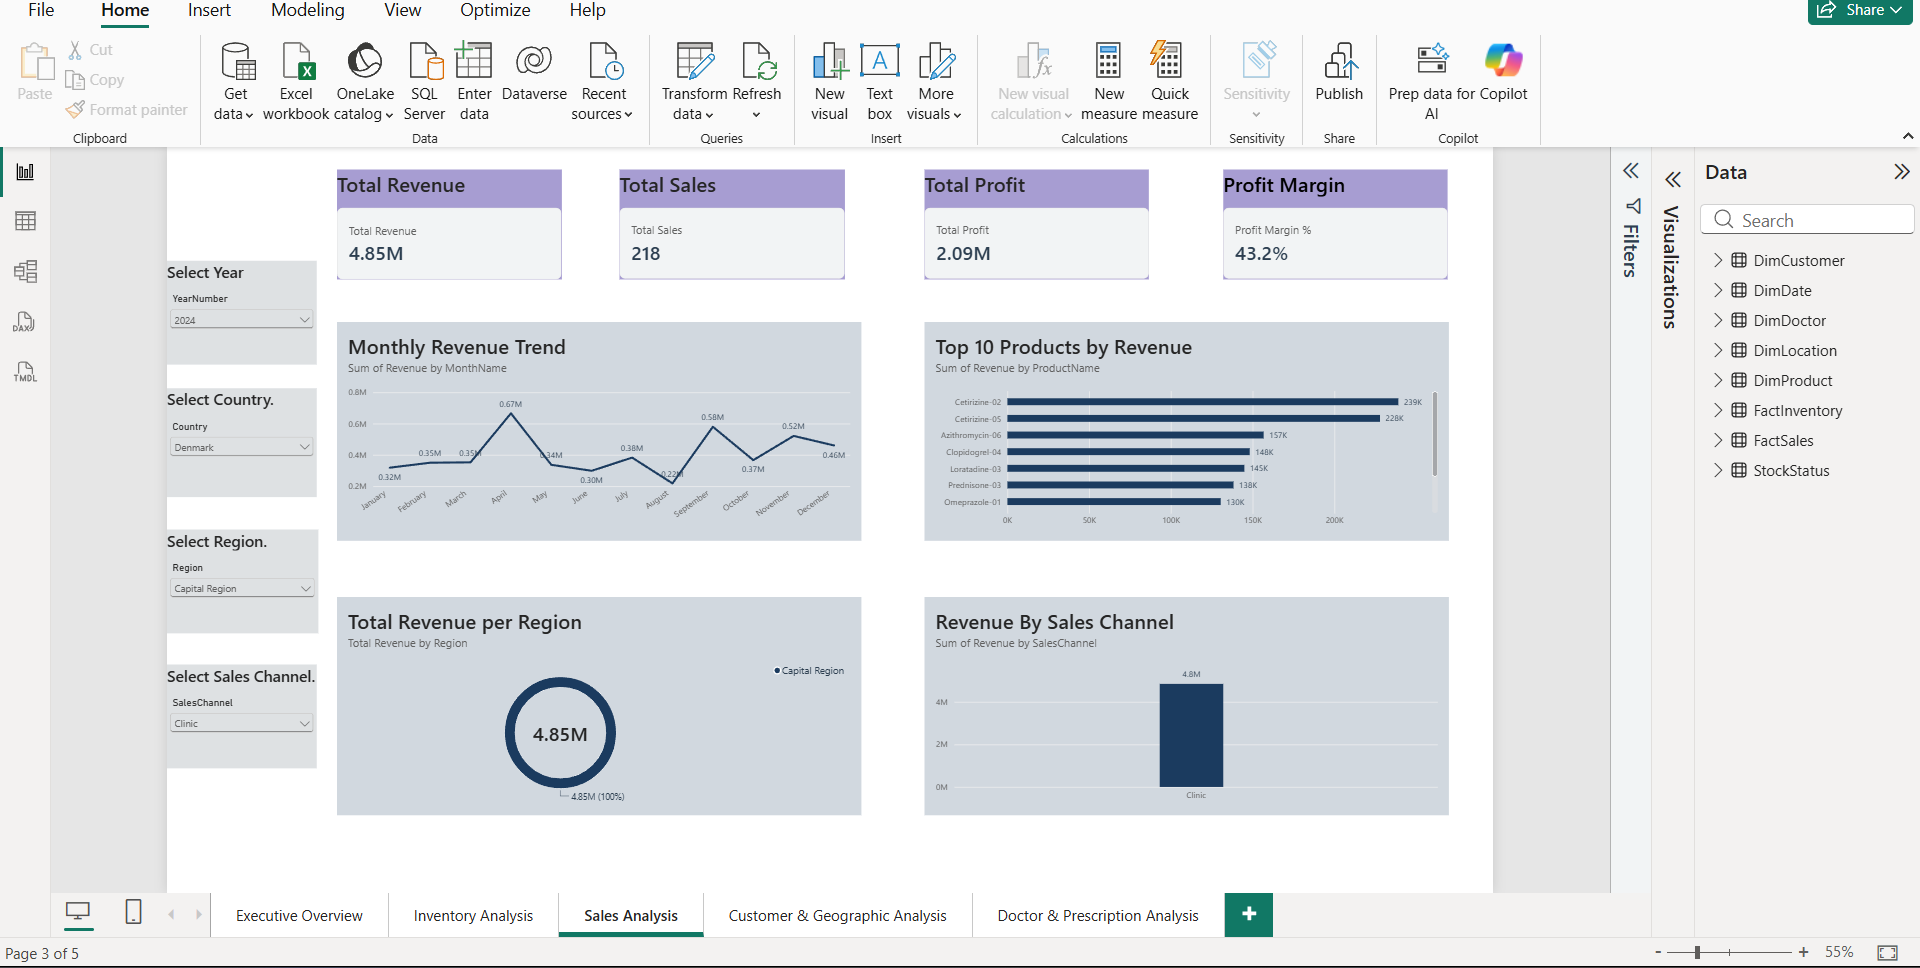

What the dashboard file says about the page in this screenshot:
{"tool":"powerbi","page":{"name":"Sales Analysis","canvas":[1920,1080],"ordinal":2},"visuals":[{"type":"cardVisual","title":"Total Revenue","fields":{"Data":["FactSales.Total Revenue"]},"box":[246.1,32.6,325.7,159.3],"z":0},{"type":"cardVisual","title":"Total Sales","fields":{"Data":["FactSales.Total Sales"]},"box":[655.1,32.6,326,159],"z":1000},{"type":"cardVisual","title":"Total Profit","fields":{"Data":["FactSales.Total Profit"]},"box":[1096.7,32.6,325,159],"z":2000},{"type":"cardVisual","title":"Profit Margin","fields":{"Data":["FactSales.Profit Margin %"]},"box":[1529.2,32.6,325,159],"z":3000},{"type":"lineChart","title":"Monthly Revenue Trend","fields":{"Category":["DimDate.MonthName"],"Y":["Sum(FactSales.Revenue)"]},"box":[246.1,253.4,759,316.7],"z":4000},{"type":"clusteredBarChart","title":"Top 10 Products by Revenue","fields":{"Category":["DimProduct.ProductName"],"Y":["Sum(FactSales.Revenue)"]},"box":[1096.7,253.4,759,316.7],"z":5000},{"type":"donutChart","title":"Total Revenue per Region","fields":{"Category":["DimLocation.Region"],"Y":["FactSales.Total Revenue"]},"box":[246.1,651.5,759,316],"z":6000},{"type":"clusteredColumnChart","title":"Revenue By Sales Channel","fields":{"Category":["FactSales.SalesChannel"],"Y":["Sum(FactSales.Revenue)"]},"box":[1096.7,651.5,759,316],"z":7000},{"type":"slicer","title":"Select Year","fields":{"Values":["DimDate.YearNumber"]},"box":[0,165,217,150],"z":7001},{"type":"slicer","title":"Select Country.","fields":{"Values":["DimLocation.Country"]},"box":[0,349.3,217.2,157.4],"z":7002},{"type":"slicer","title":"Select Region.","fields":{"Values":["DimLocation.Region"]},"box":[0,553.8,219,150.2],"z":7003},{"type":"slicer","title":"Select Sales Channel.","fields":{"Values":["FactSales.SalesChannel"]},"box":[0,749.2,217.2,150.2],"z":7004}]}

Visuals, with their boxes on the page's 1920x1080 design canvas (x1, y1, x2, y2). These are canvas units, not pixel positions in the 1920x968 screenshot, which may show the page scaled, cropped or inside an application window:
"Total Revenue" cardVisual: select_region(246, 33, 572, 192)
"Total Sales" cardVisual: select_region(655, 33, 981, 192)
"Total Profit" cardVisual: select_region(1097, 33, 1422, 192)
"Profit Margin" cardVisual: select_region(1529, 33, 1854, 192)
"Monthly Revenue Trend" lineChart: select_region(246, 253, 1005, 570)
"Top 10 Products by Revenue" clusteredBarChart: select_region(1097, 253, 1856, 570)
"Total Revenue per Region" donutChart: select_region(246, 652, 1005, 968)
"Revenue By Sales Channel" clusteredColumnChart: select_region(1097, 652, 1856, 968)
"Select Year" slicer: select_region(0, 165, 217, 315)
"Select Country." slicer: select_region(0, 349, 217, 507)
"Select Region." slicer: select_region(0, 554, 219, 704)
"Select Sales Channel." slicer: select_region(0, 749, 217, 899)
